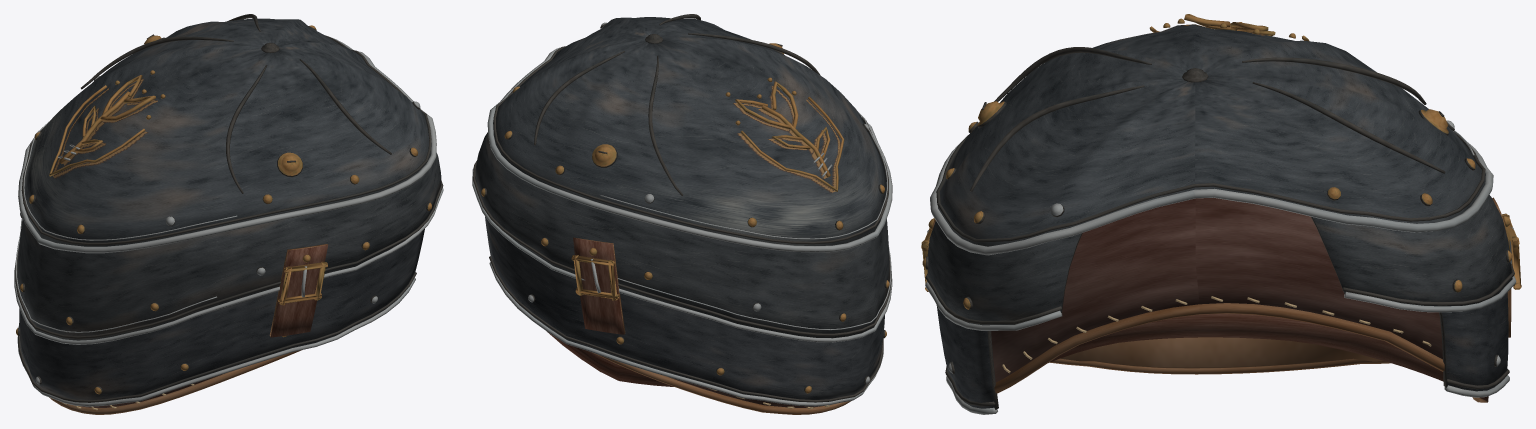
Rendered from Feldschulter.fbx.
3 views of the same model, side by side, from view 1: azimuth 30°, elevation 25°; view 2: azimuth 150°, elevation 25°; view 3: azimuth 270°, elevation 25° (orthographic). The views are drawn at different scales.
Visible parts, largest first — view 1: Feldschulter_LOD0; view 2: Feldschulter_LOD0; view 3: Feldschulter_LOD0.
Part boxes in pixels (x1=…): Feldschulter_LOD0: x1=14, y1=14, x2=443, y2=414; Feldschulter_LOD0: x1=472, y1=14, x2=892, y2=414; Feldschulter_LOD0: x1=921, y1=14, x2=1521, y2=414.
Size of what is drawn, in the model's own units: 0.2869 by 0.2474 by 0.2998.
1 material, 1 textured.
